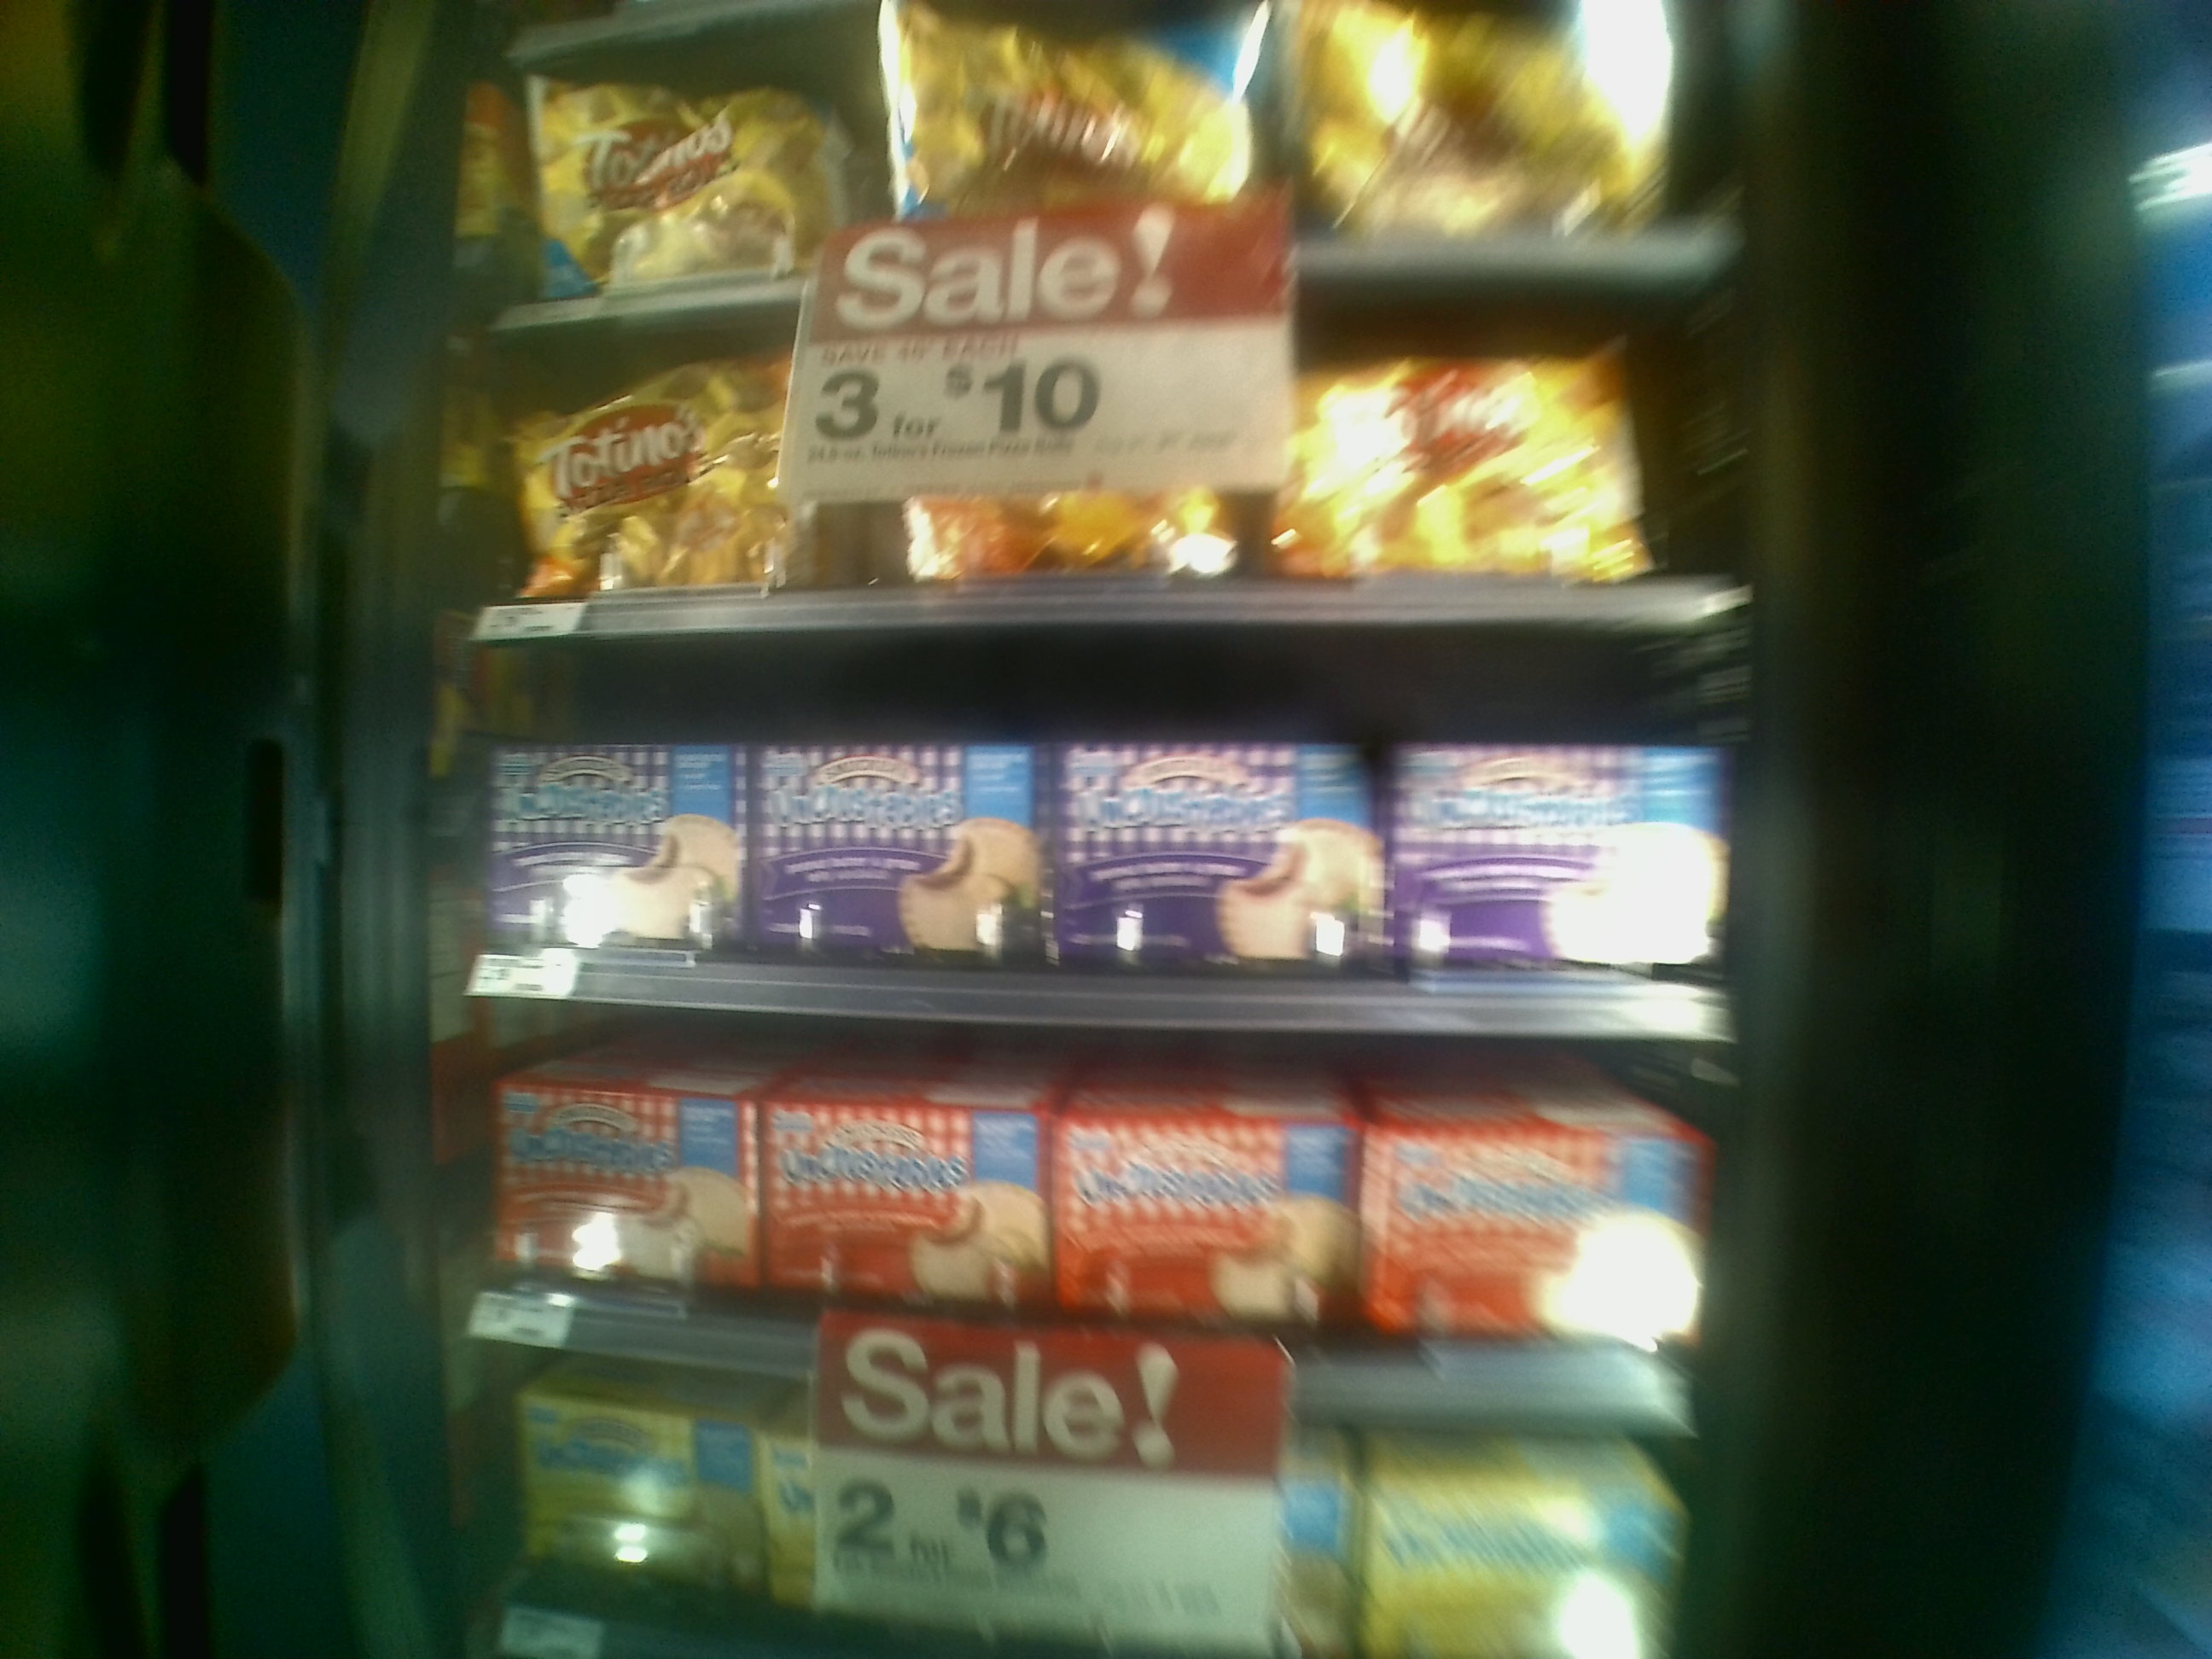shelf: (430, 976, 1712, 1429), (449, 589, 1721, 1040), (462, 301, 1730, 643)
